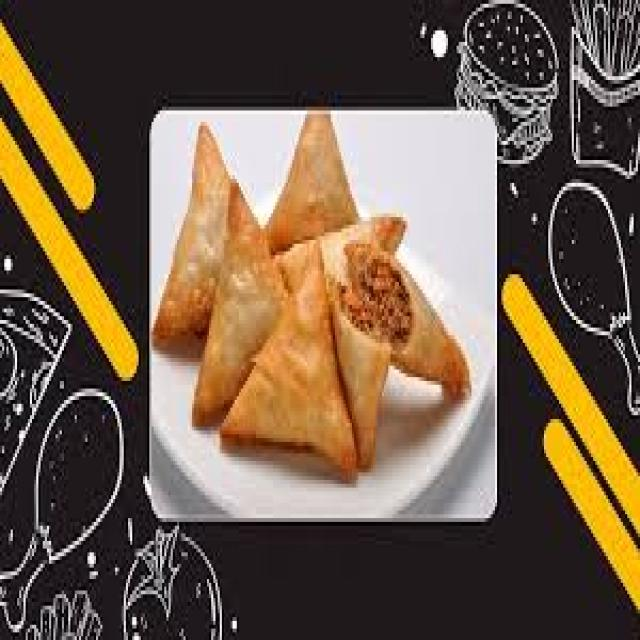SAMOSA: (222, 235, 354, 474), (334, 242, 466, 466), (192, 174, 288, 423), (157, 135, 233, 346), (270, 110, 356, 252), (268, 215, 408, 297)
